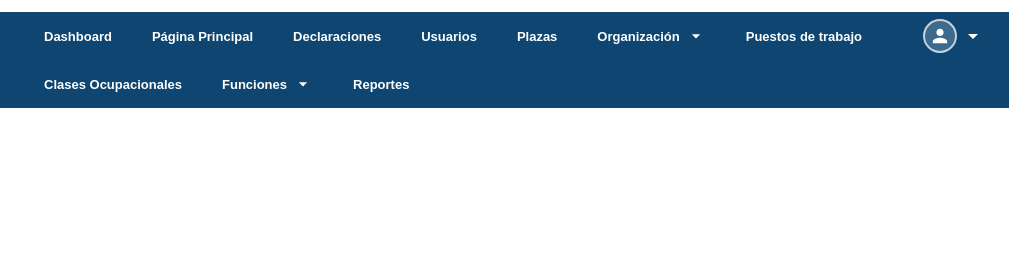
Test: Navbar › abre submenu de Organización y cierra el submenu al hacer click en Áreas si el usuario tiene permisos
What coordinates should you click on to do the following:
click the button "Organización"
I would click on:
 (652, 36)
Its box is [577,12,726,60].
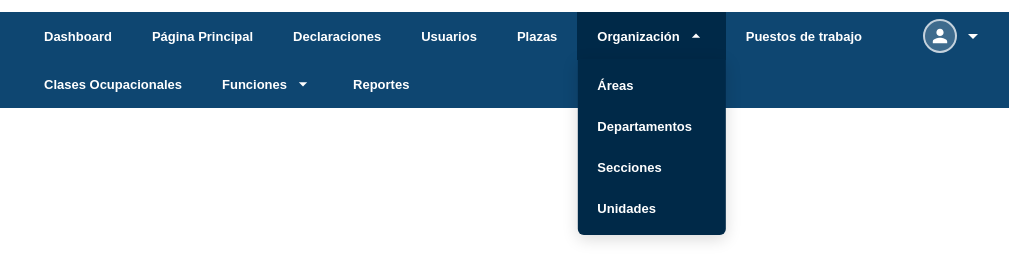
Result: the text "Áreas" is shown at [597,79,634,92]
What coordinates should you click on to do the following:
click the button "Áreas"
I would click on:
 (652, 86)
Its box is [577,65,726,106].
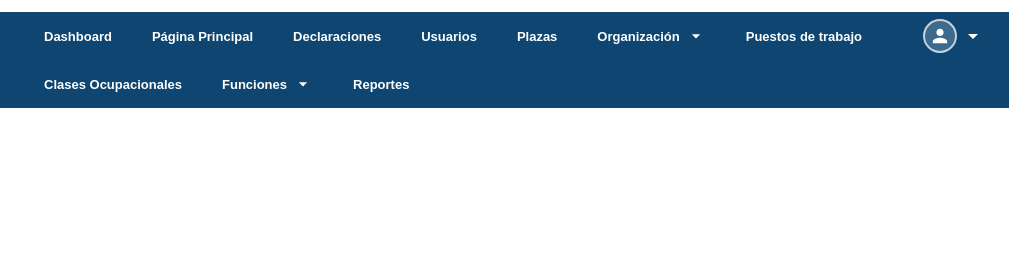
Result: the button "Áreas" is gone
